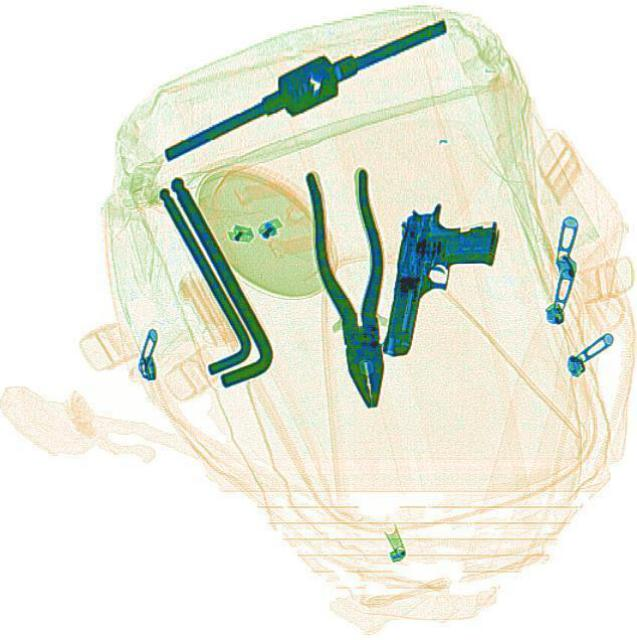Gun: (381, 200, 500, 366)
Pliers: (303, 162, 402, 410)
